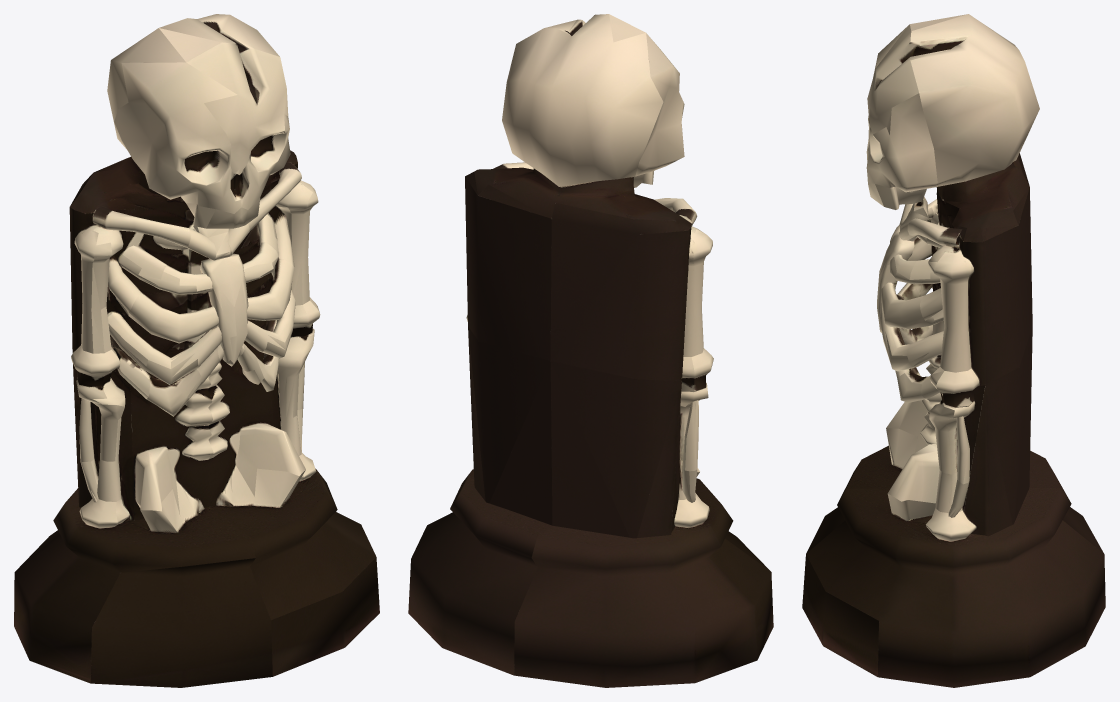
File: Meshy_AI_Pedestal_Skeleton_0726160051_texture.glb
3 views of the same model, side by side, from view 1: azimuth 30°, elevation 25°; view 2: azimuth 150°, elevation 25°; view 3: azimuth 270°, elevation 25° (orthographic). The views are drawn at different scales.
Visible parts, largest first — view 1: mesh_node; view 2: mesh_node; view 3: mesh_node.
Part boxes in pixels (x1,y1,x2,y2): mesh_node: [14, 14, 379, 687]; mesh_node: [408, 14, 773, 687]; mesh_node: [802, 14, 1105, 687].
Size of the model in its own units: 0.582 by 0.9902 by 0.4688.
Materials: 1 (1 with a texture image).
